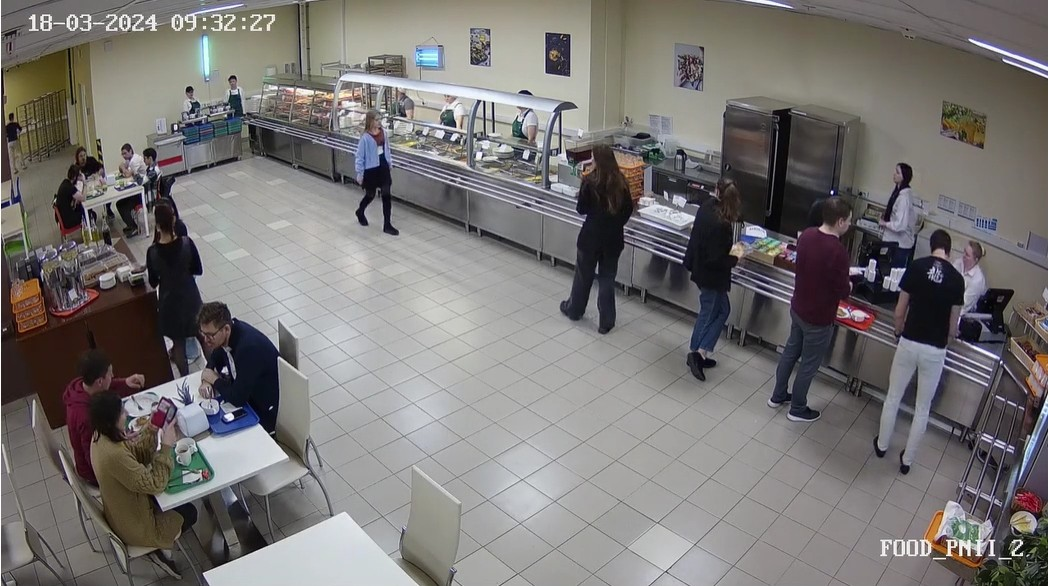Na_Kasse: (823, 220, 983, 472), (729, 187, 872, 426), (660, 166, 751, 387)
Ne_v_Ocheredi: (133, 205, 246, 353), (2, 113, 33, 175)
Personal: (876, 157, 918, 254), (960, 236, 995, 297), (499, 94, 539, 146), (433, 83, 468, 131), (220, 71, 250, 114), (179, 81, 205, 129)
Vybiraet: (538, 135, 639, 334), (345, 104, 410, 242)
Za_Stolom: (91, 398, 183, 535), (195, 301, 288, 422), (50, 350, 117, 477), (53, 163, 85, 225), (66, 139, 108, 185), (133, 147, 164, 196), (115, 137, 141, 179)
